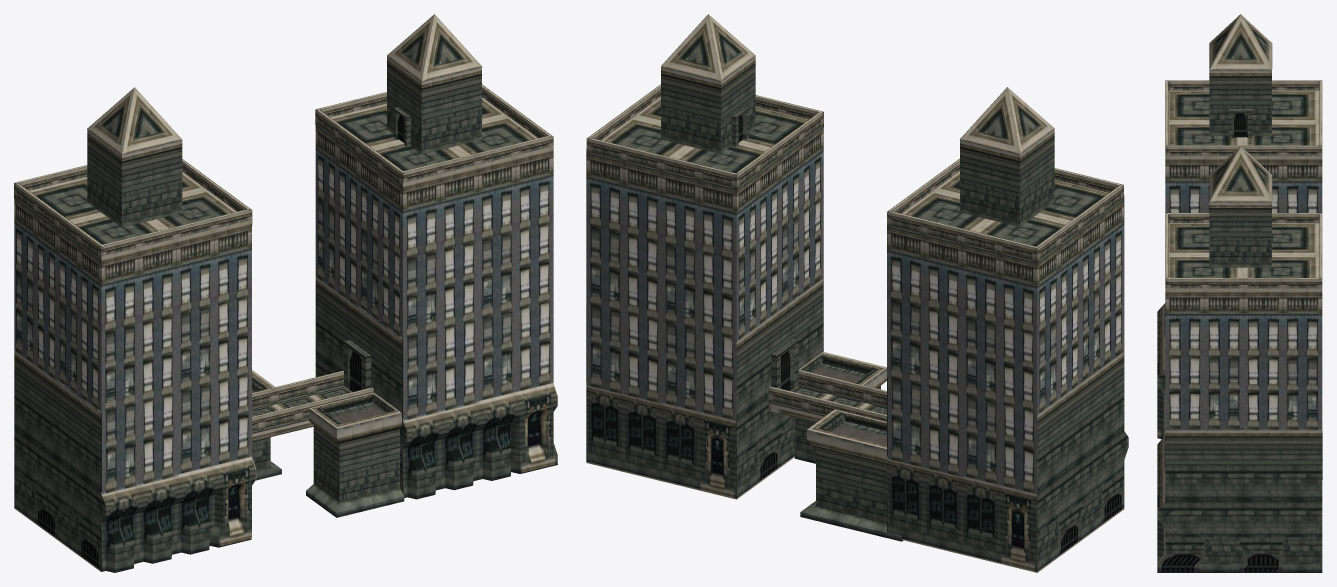
Rendered from building04.fbx.
The picture shows the model from 3 angles, left to right: view 1: azimuth 30°, elevation 25°; view 2: azimuth 150°, elevation 25°; view 3: azimuth 270°, elevation 25°; orthographic projection. The views are drawn at different scales.
Parts seen in each view (by area): view 1: SecondBuilding; view 2: SecondBuilding; view 3: SecondBuilding.
Boxes of the visible parts, x1,y1,x2,y2 form: SecondBuilding: (14,14,557,572); SecondBuilding: (586,14,1128,572); SecondBuilding: (1157,14,1322,572).
Size of the model in its own units: 6001 by 5547 by 2105.
Materials: 8 (8 with a texture image).
